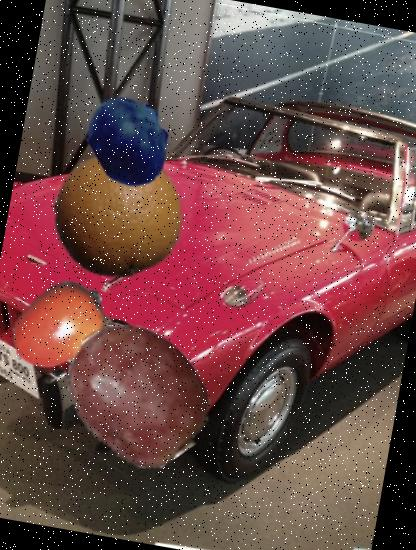Grape: (51, 307, 224, 480)
Huckleberry: (76, 86, 184, 195)
Kaki: (0, 267, 119, 386)
Orange: (43, 141, 192, 290)
